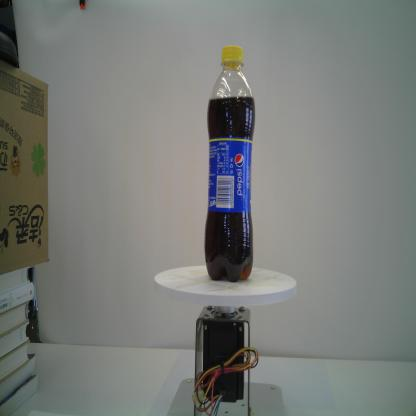Drink: (202, 42, 258, 285)
